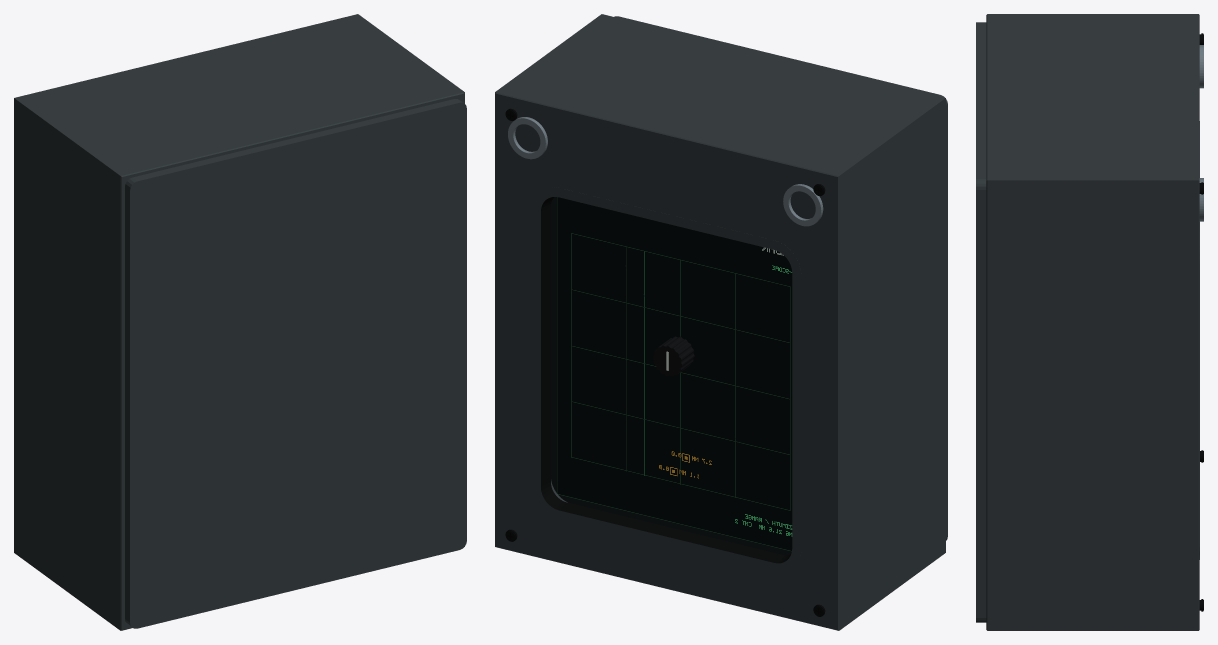
Rendered from MFDStudio.obj.
The picture shows the model from 3 angles, left to right: view 1: azimuth 30°, elevation 25°; view 2: azimuth 150°, elevation 25°; view 3: azimuth 270°, elevation 25°; orthographic projection.
Parts seen in each view (by area): view 1: MFDStudioBody; view 2: MFDStudioBody, MFDStudioScreen, MFDStudioKnob0; view 3: MFDStudioBody.
Boxes of the visible parts, bbox=[...] form: MFDStudioBody: bbox=[14, 14, 466, 630]; MFDStudioBody: bbox=[495, 14, 947, 630]; MFDStudioScreen: bbox=[551, 197, 792, 555]; MFDStudioKnob0: bbox=[653, 336, 694, 376]; MFDStudioBody: bbox=[976, 14, 1203, 630].
Size of the model in its own units: 0.19 by 0.24 by 0.11.
Materials: 8 (1 with a texture image).
